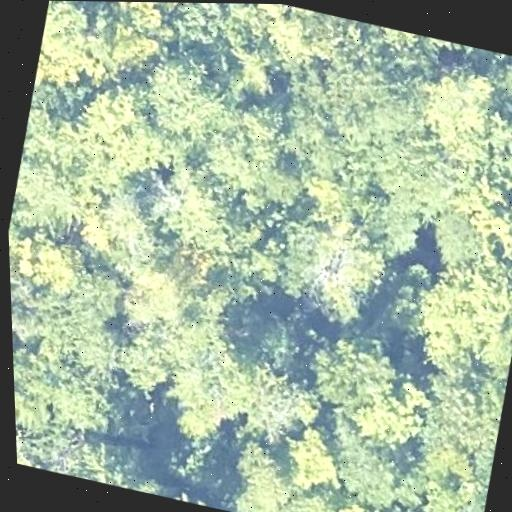tree-top: (289, 69, 459, 249), (260, 206, 392, 325), (8, 215, 123, 346), (54, 72, 178, 193), (316, 341, 442, 455), (152, 310, 257, 444), (149, 164, 273, 275), (303, 322, 420, 434), (31, 0, 151, 103), (20, 417, 174, 497), (412, 259, 512, 381), (12, 332, 118, 445), (136, 42, 245, 149), (199, 92, 304, 203), (416, 362, 511, 479), (225, 351, 330, 456), (413, 59, 509, 165), (6, 146, 107, 243), (452, 108, 512, 242), (326, 428, 416, 512), (109, 255, 198, 338), (249, 4, 352, 73), (217, 434, 306, 512), (273, 418, 353, 501), (99, 319, 176, 395), (419, 203, 492, 274), (359, 22, 459, 58), (298, 488, 423, 512), (101, 1, 202, 21), (15, 416, 48, 467), (486, 56, 512, 116)
